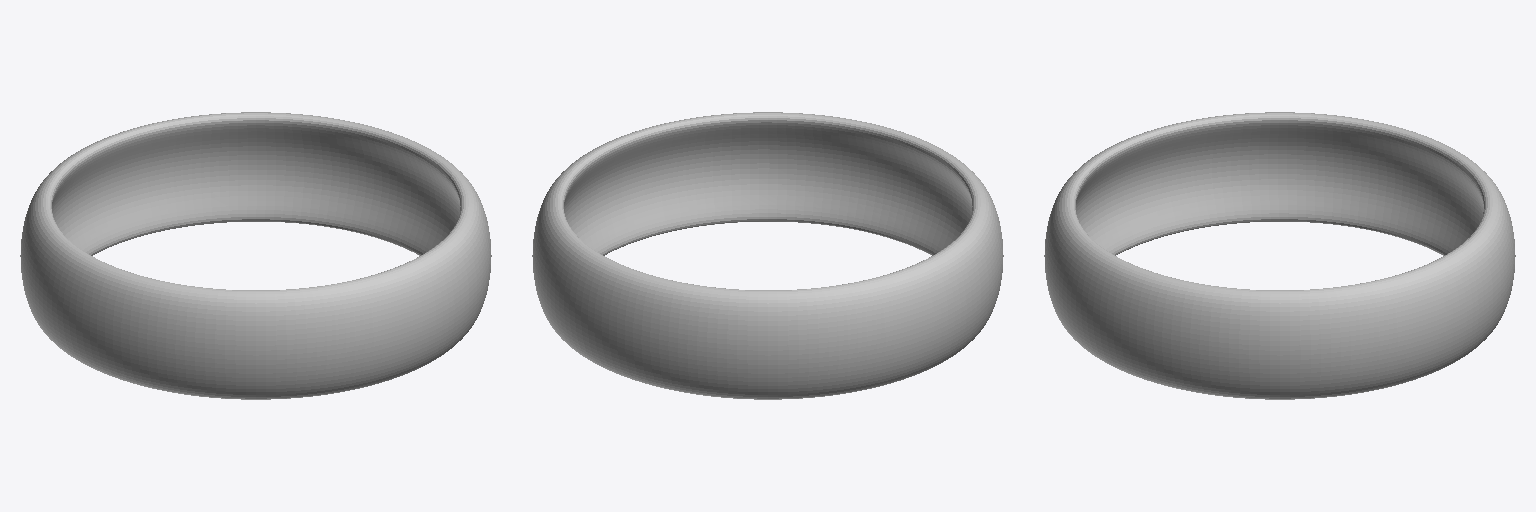
Rendered from Ring.obj.
3 renders of one model, left to right at view 1: azimuth 30°, elevation 25°; view 2: azimuth 150°, elevation 25°; view 3: azimuth 270°, elevation 25°, orthographic.
Visible parts, largest first — view 1: Ring; view 2: Ring; view 3: Ring.
Boxes of the visible parts, x1,y1,x2,y2 form: Ring: [20, 112, 491, 399]; Ring: [532, 112, 1003, 399]; Ring: [1044, 112, 1515, 399].
Bounding box in the file's own units: 17.55 × 4.42 × 17.55.